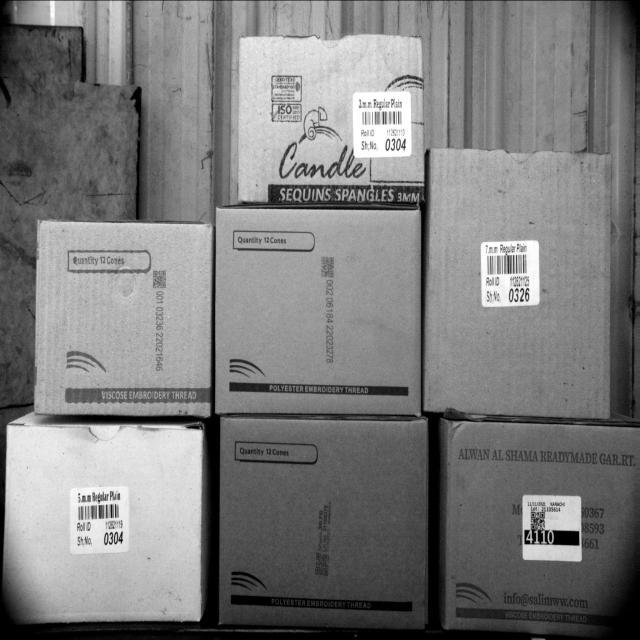box: (428, 152, 620, 416), (224, 423, 434, 639), (441, 414, 640, 632), (218, 208, 422, 416), (1, 426, 200, 626), (36, 213, 213, 420), (238, 35, 424, 215)
